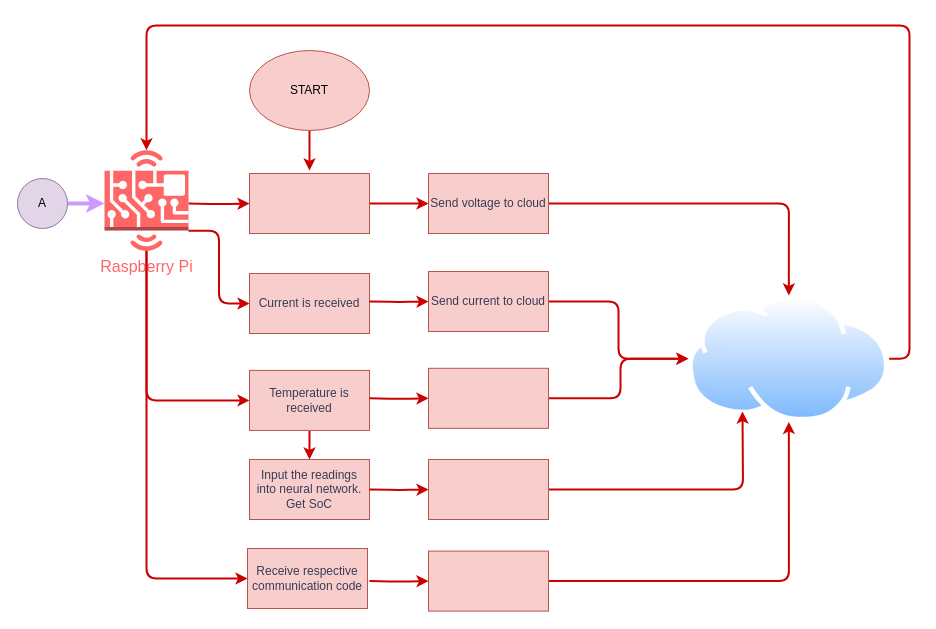
This 936x629 diagram has some shape labels left out. Each missing label, with the centre of its shape:
"Send code accordingly" belongs at (488,580).
"Send SoC to cloud" belongs at (488,489).
"Send temperature to cloud" belongs at (488,397).
"Voltage is received" belongs at (309,203).
